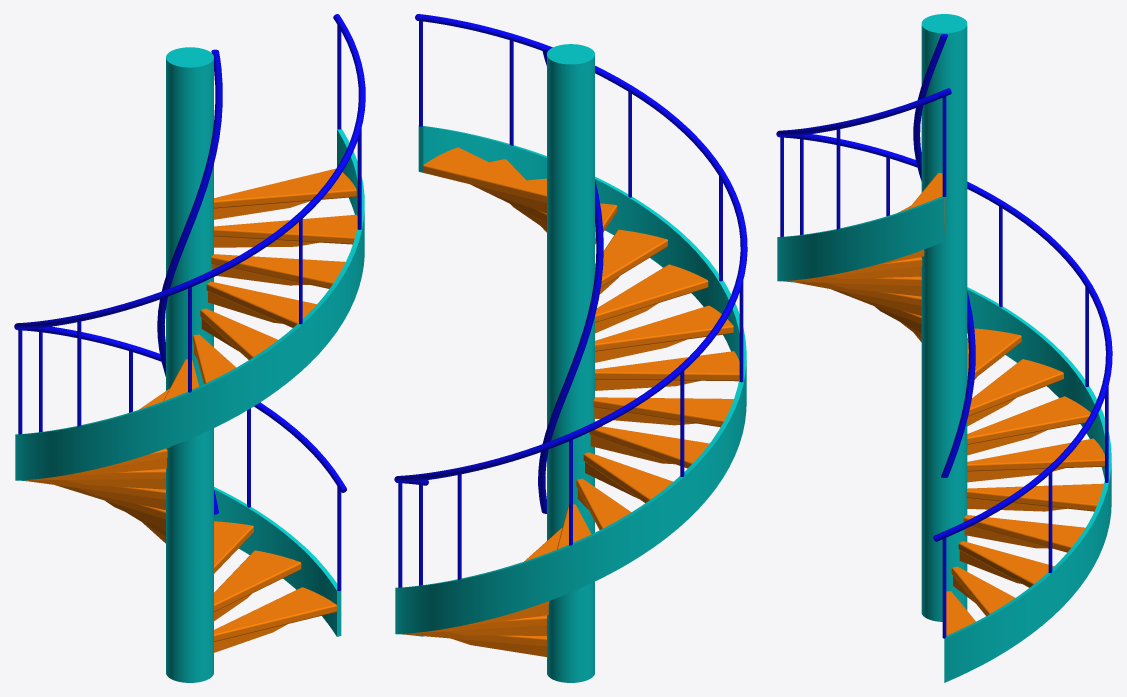
The model's file is SpiralStairs.fbx.
The picture shows the model from 3 angles, left to right: view 1: azimuth 30°, elevation 25°; view 2: azimuth 150°, elevation 25°; view 3: azimuth 270°, elevation 25°; orthographic projection. The views are drawn at different scales.
Visible parts, largest first — view 1: obj1, obj13, obj12, obj33, obj15, obj32, obj31, obj16, obj14, obj30, obj29, obj22 (+6 smaller); view 2: obj13, obj1, obj12, obj27, obj26, obj33, obj28, obj25, obj24, obj14, obj29, obj23 (+6 smaller); view 3: obj1, obj13, obj12, obj20, obj21, obj19, obj22, obj18, obj14, obj17, obj28, obj23 (+6 smaller).
Boxes of the visible parts, box(x1,y1,x2,y2) form: obj1: box(166, 47, 213, 682); obj13: box(15, 128, 364, 636); obj12: box(14, 14, 365, 492); obj33: box(214, 168, 356, 219); obj15: box(214, 587, 336, 652); obj32: box(214, 214, 357, 247); obj31: box(211, 254, 345, 288); obj16: box(214, 550, 301, 620); obj14: box(157, 49, 222, 514); obj30: box(206, 281, 316, 327); obj29: box(200, 308, 277, 359); obj22: box(26, 468, 165, 489); obj13: box(395, 125, 746, 636); obj1: box(547, 44, 594, 682); obj12: box(394, 14, 747, 485); obj27: box(595, 305, 733, 362); obj26: box(595, 351, 739, 390); obj33: box(423, 147, 546, 213); obj28: box(595, 264, 708, 333); obj25: box(593, 397, 733, 427); obj24: box(589, 426, 709, 468); obj14: box(538, 46, 603, 513); obj29: box(595, 229, 667, 294); obj23: box(583, 452, 672, 503); obj1: box(921, 14, 967, 621); obj13: box(777, 196, 1111, 682); obj12: box(776, 88, 1112, 541); obj20: box(967, 438, 1104, 482); obj21: box(967, 396, 1090, 455); obj19: box(966, 483, 1103, 511); obj22: box(967, 359, 1063, 426); obj18: box(963, 515, 1085, 552); obj14: box(913, 34, 975, 477); obj17: box(958, 541, 1054, 587); obj28: box(783, 276, 921, 296); obj23: box(967, 328, 1021, 379).
Bounding box in the file's own units: 2.07 × 4.03 × 2.07.
